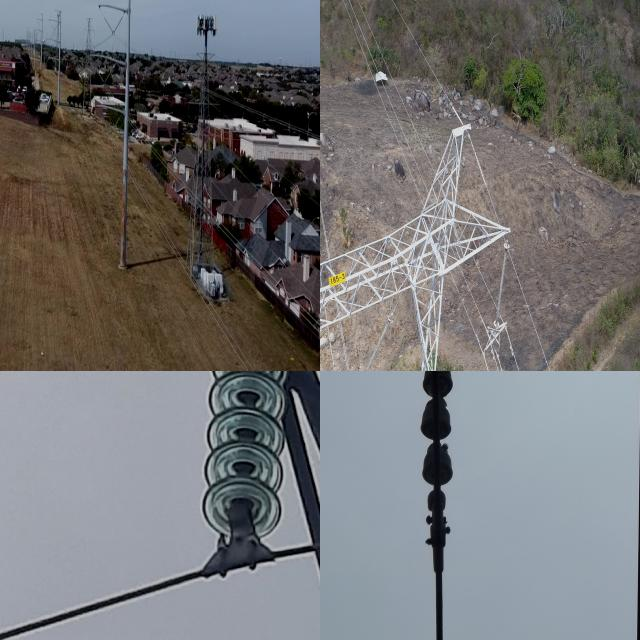杆塔: (320, 107, 509, 371), (191, 371, 320, 640), (185, 6, 224, 290), (79, 14, 97, 117)
正常绝缘子: (175, 371, 307, 565), (382, 371, 482, 547), (493, 236, 510, 332)
绝缘子破损: (420, 415, 452, 454), (421, 372, 454, 408)
